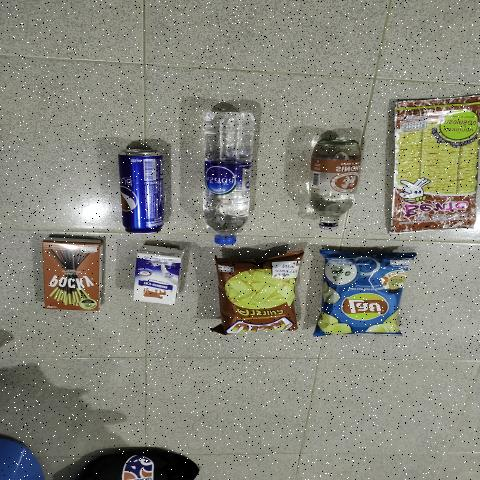bento_red: (389, 98, 480, 232)
crystal: (203, 105, 258, 248)
lay_blue: (320, 256, 402, 332)
party_red: (225, 262, 298, 334)
pepsi_blue: (112, 141, 170, 236)
pokki: (43, 240, 103, 308)
singha_soda: (309, 132, 364, 230)
thai_denmark: (134, 252, 179, 303)
